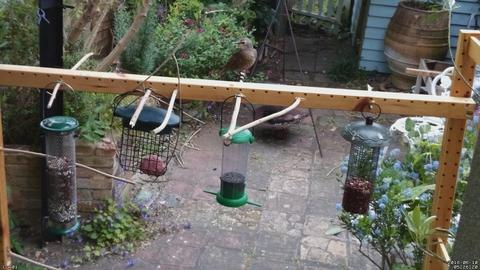starling: (216, 37, 257, 82)
